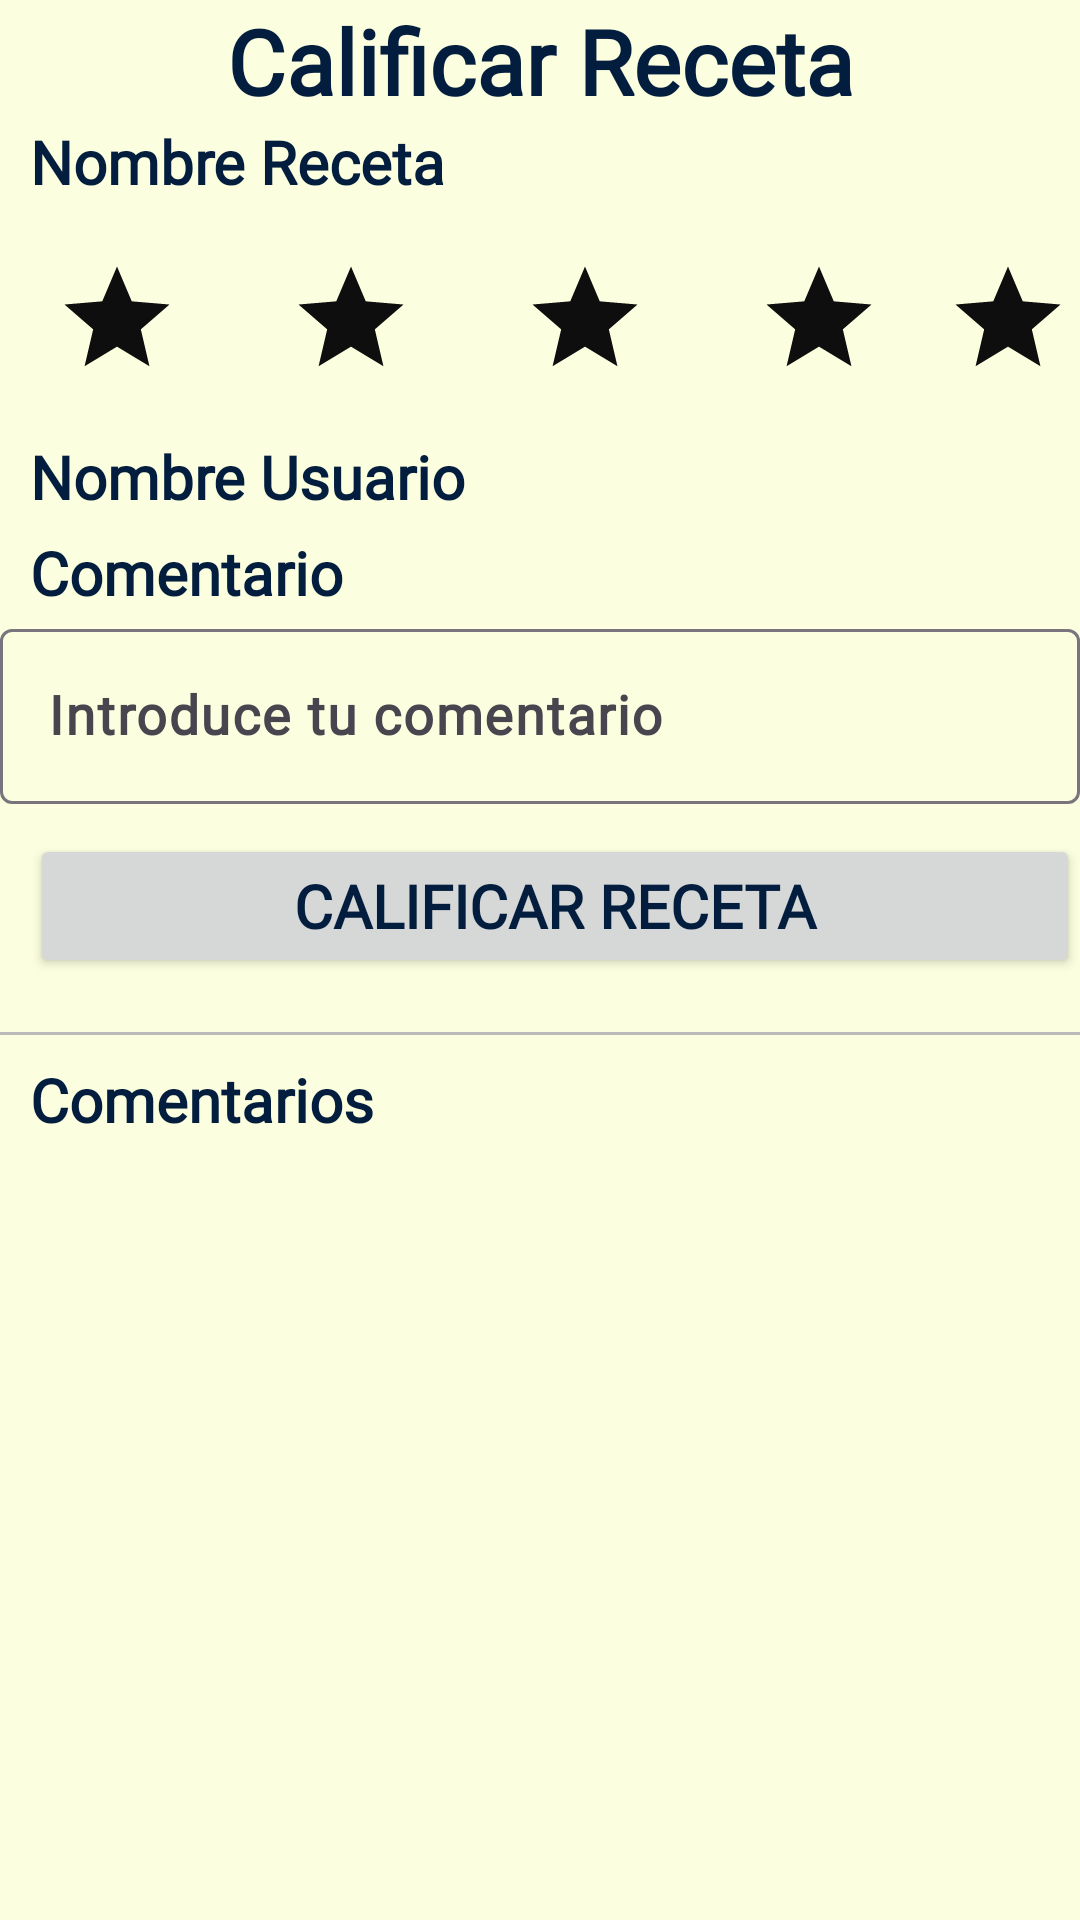

Named icons in this screenshot (1080px×1920px) and their bounding boxes, box(x1, y1, x2, y2):
estrella negra: box(65, 267, 170, 366), box(299, 267, 404, 366), box(533, 267, 638, 366), box(767, 267, 872, 366), box(956, 267, 1061, 366)
